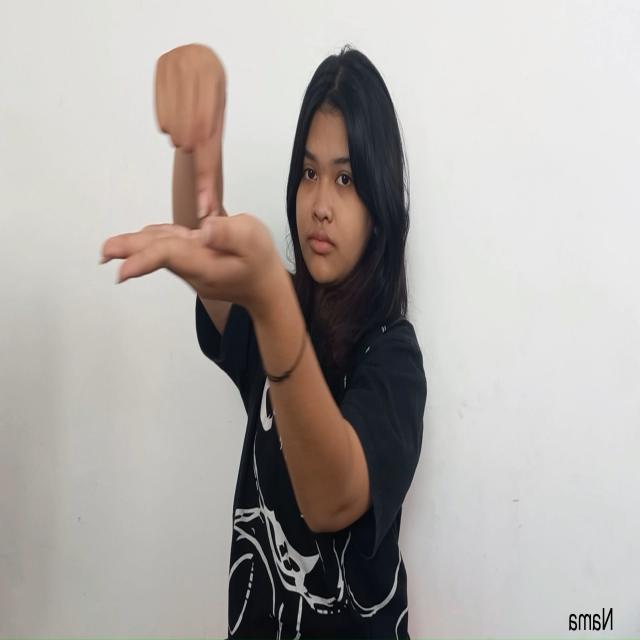Nama -BISINDO-: (98, 43, 277, 314)
